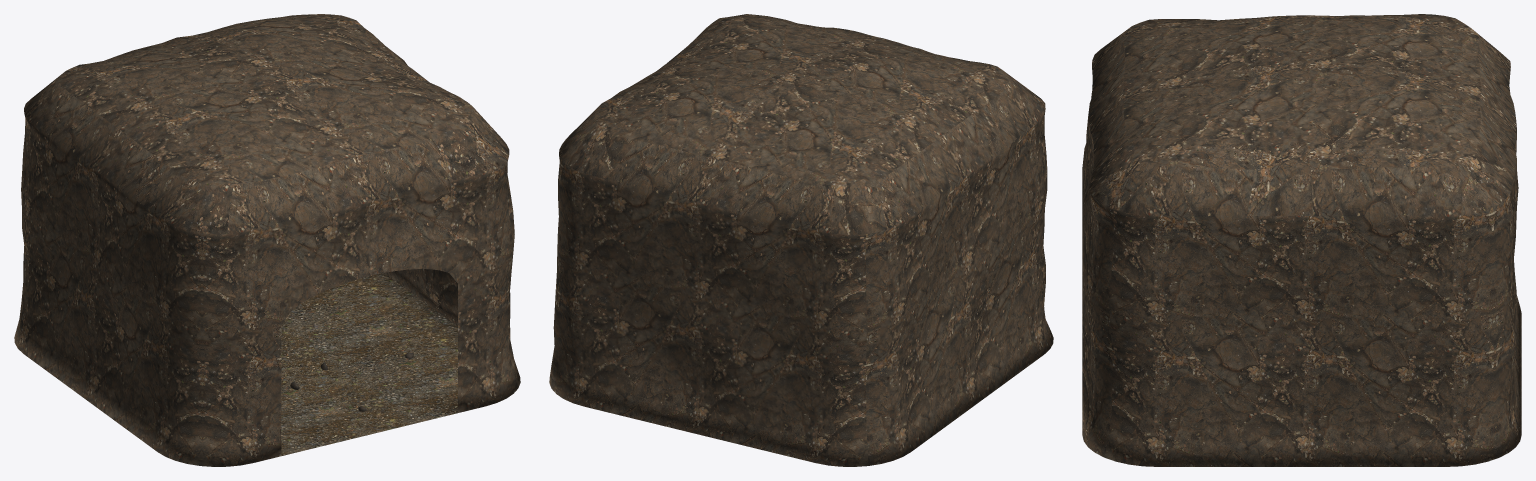
Rendered from piece_room_1.gltf.
3 renders of one model, left to right at view 1: azimuth 30°, elevation 25°; view 2: azimuth 150°, elevation 25°; view 3: azimuth 270°, elevation 25°, orthographic. The views are drawn at different scales.
Parts seen in each view (by area): view 1: SHL_room_1; view 2: SHL_room_1; view 3: SHL_room_1.
Boxes of the visible parts, x1=… form: SHL_room_1: x1=14, y1=14, x2=520, y2=466; SHL_room_1: x1=549, y1=14, x2=1053, y2=466; SHL_room_1: x1=1082, y1=14, x2=1521, y2=466.
Size of what is drawn, in the model's own units: 7 by 5.57 by 7.
Materials: 3 (3 with a texture image).
